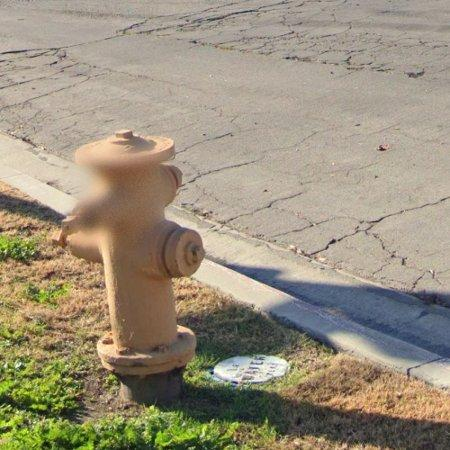a fire hydrant: (56, 130, 205, 405)
